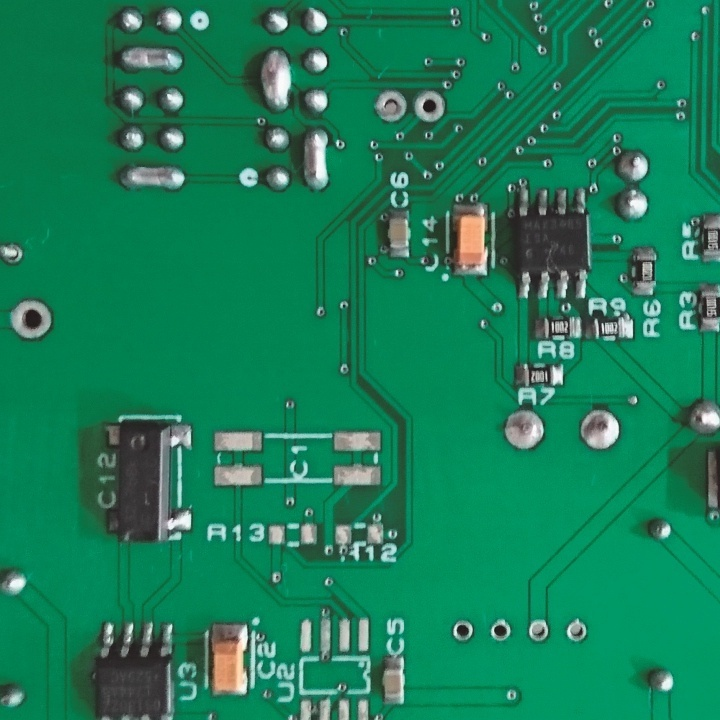F: (6, 298, 59, 343), (580, 407, 620, 453), (504, 409, 544, 452), (412, 89, 445, 124), (370, 91, 405, 122), (526, 617, 553, 648), (1, 241, 27, 269), (564, 618, 590, 645), (489, 618, 512, 648), (448, 618, 473, 644)
P: (118, 160, 187, 195), (114, 43, 186, 75), (258, 46, 290, 114), (301, 126, 331, 194)
